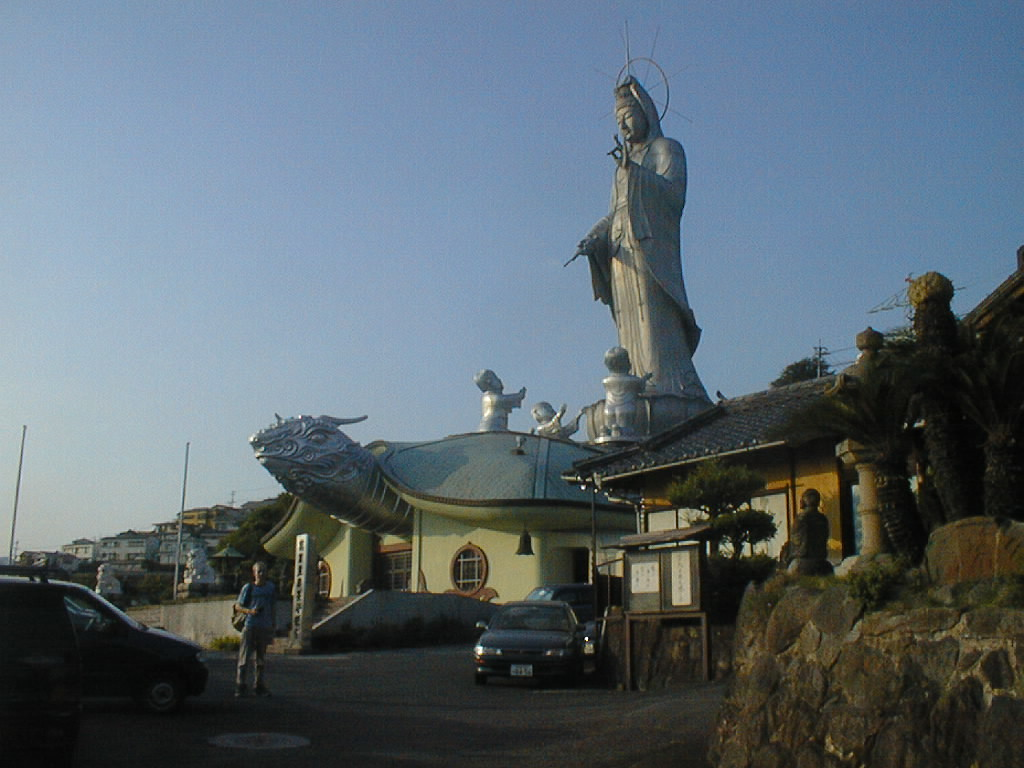mobil: (471, 599, 592, 689)
